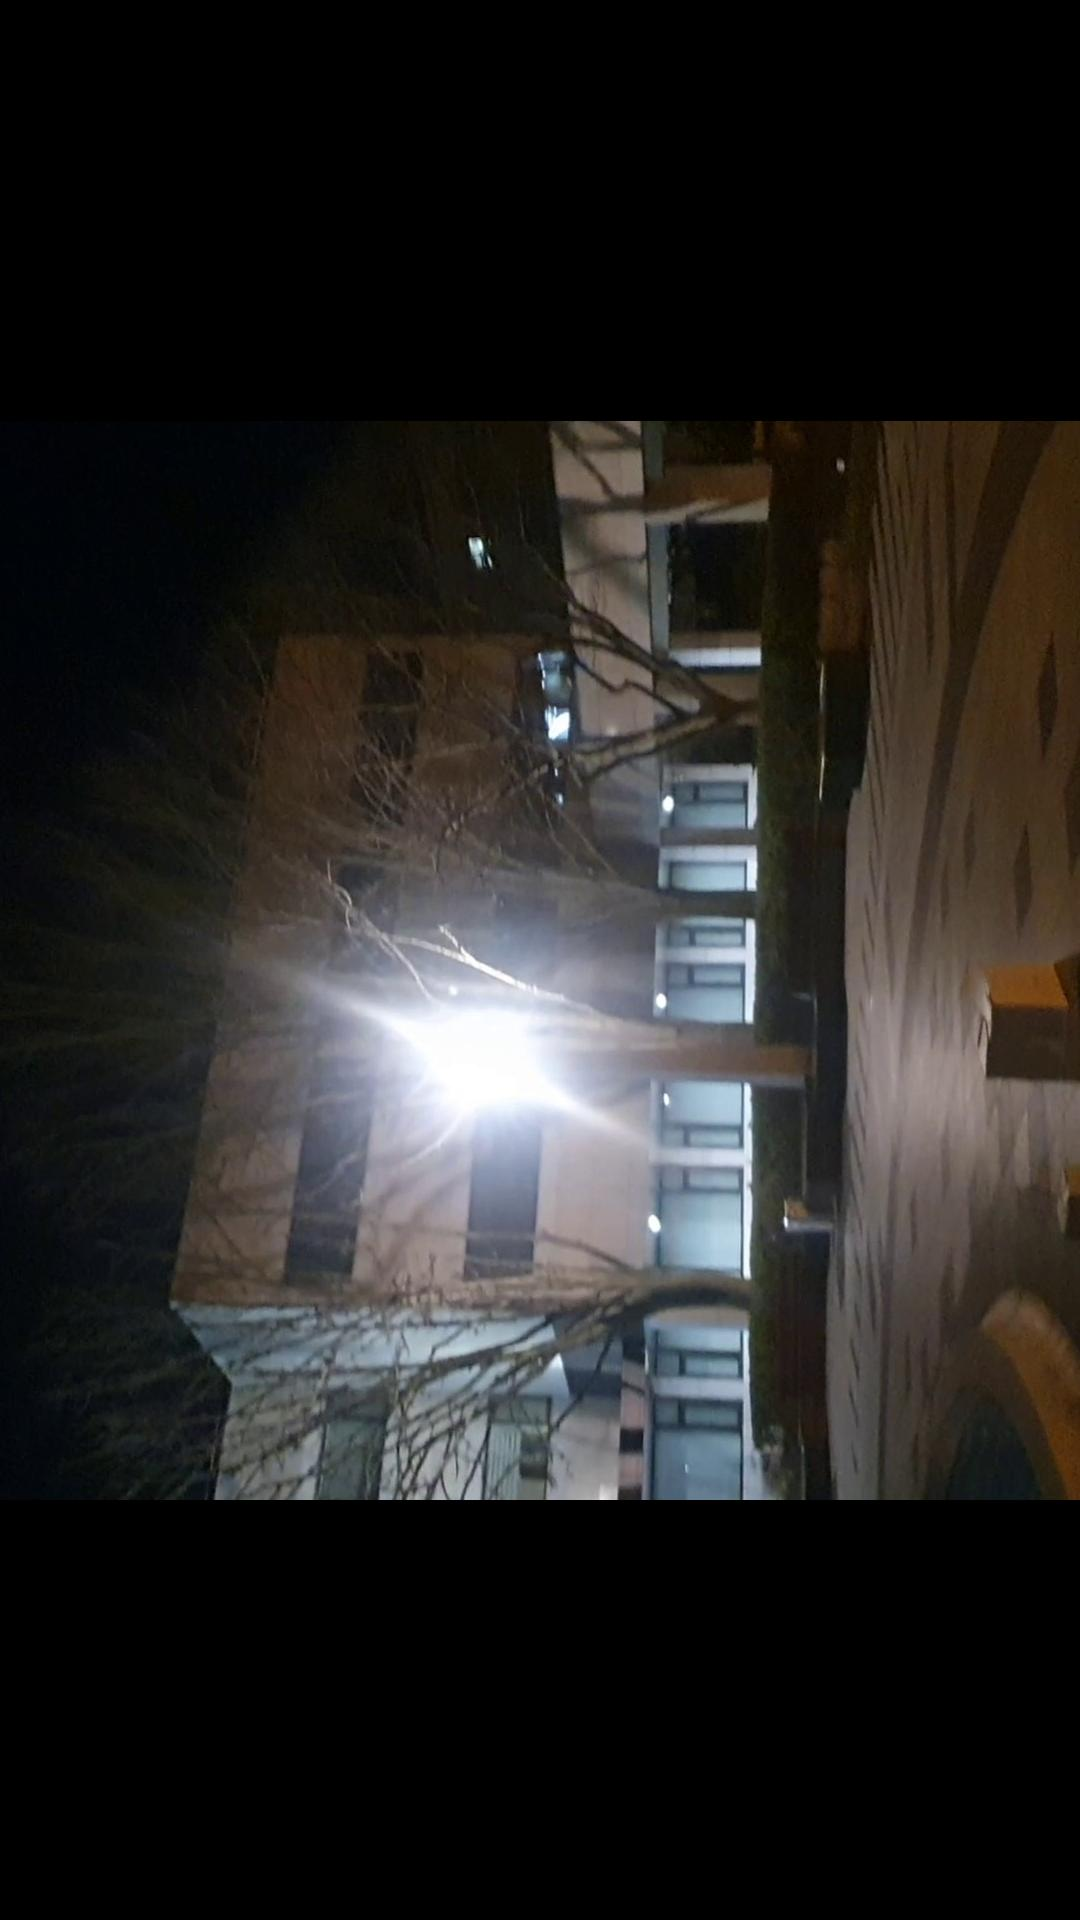Box: (973, 942, 1075, 1095), (1048, 1155, 1080, 1257)
